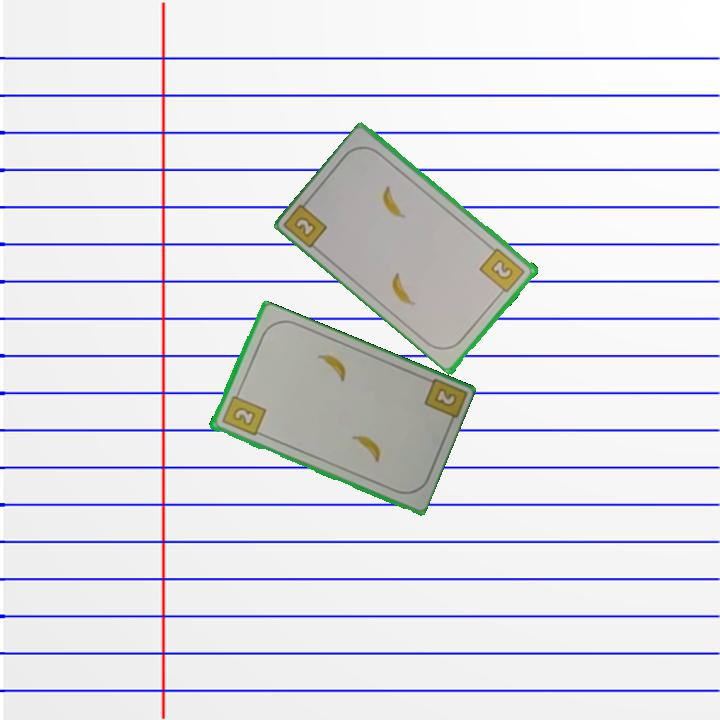2b: (476, 244, 528, 299), (218, 387, 268, 439), (291, 213, 319, 240), (430, 385, 459, 410)
